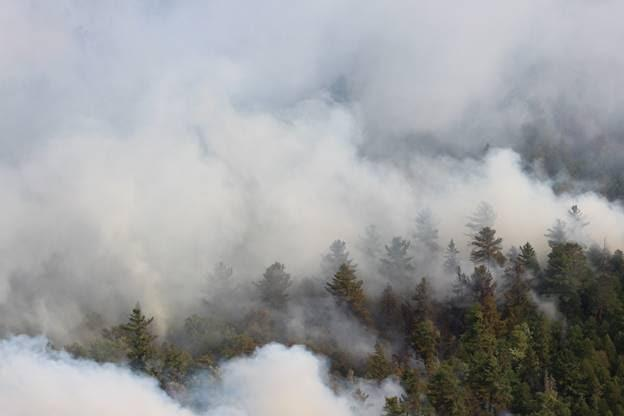smoke: (16, 126, 612, 267)
